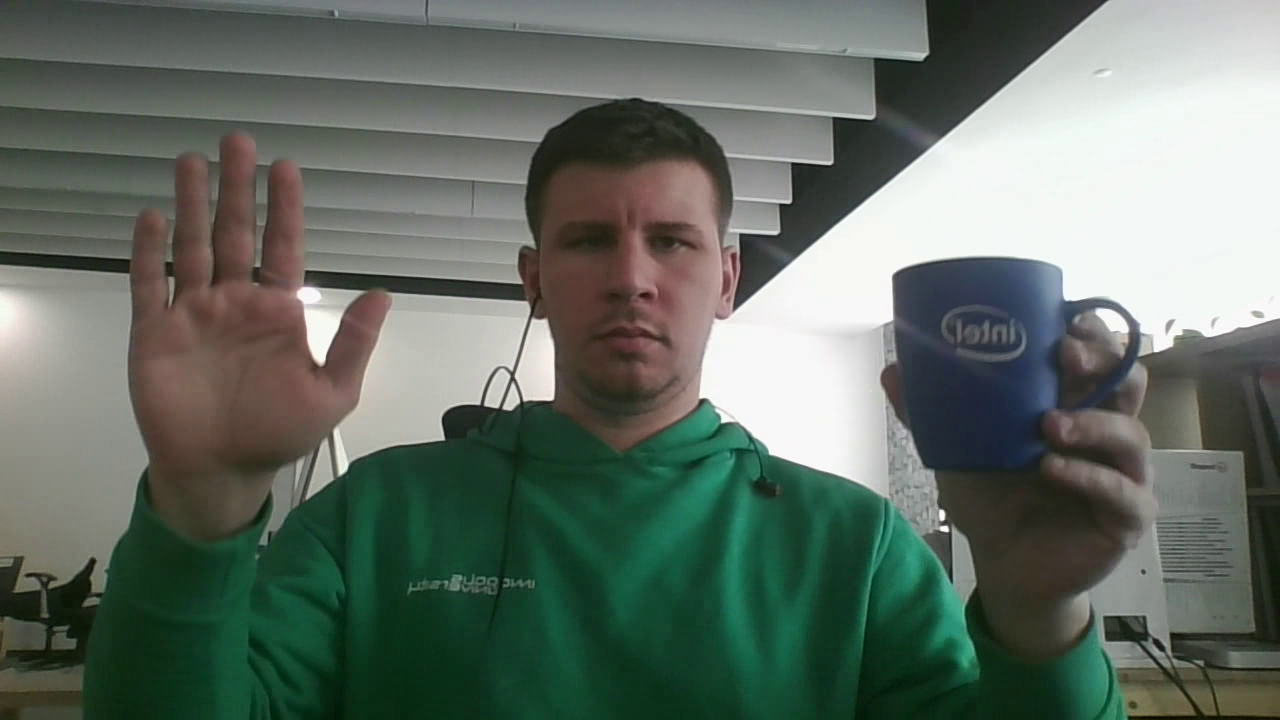cup: (890, 255, 1142, 472)
